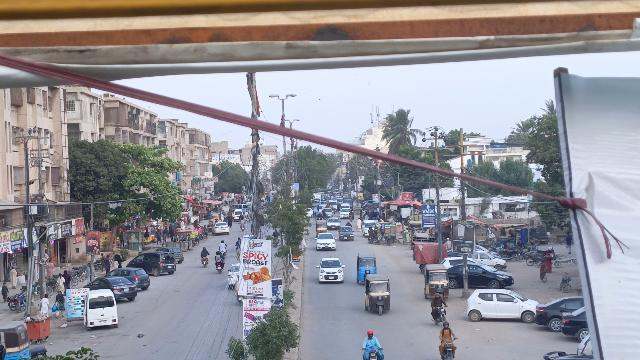Bike: (438, 338, 461, 360), (429, 306, 452, 326), (557, 268, 574, 293), (363, 347, 380, 360), (216, 260, 225, 275), (200, 255, 209, 269)
Car: (465, 287, 537, 321), (532, 293, 589, 332), (447, 264, 514, 290), (129, 251, 177, 277), (83, 277, 137, 299), (105, 266, 151, 288), (315, 255, 346, 285), (315, 231, 338, 253), (339, 224, 355, 244)
Person: (362, 326, 382, 352), (435, 322, 459, 343), (429, 290, 446, 313), (38, 292, 51, 317), (53, 288, 64, 317), (85, 261, 96, 285), (61, 269, 71, 289), (214, 249, 227, 264), (1, 281, 10, 302), (56, 272, 65, 293), (200, 245, 209, 258)
Rickshaw: (364, 274, 393, 317), (420, 262, 451, 300), (0, 322, 30, 360), (355, 250, 379, 284), (313, 220, 328, 234)
Van: (82, 287, 119, 331)
